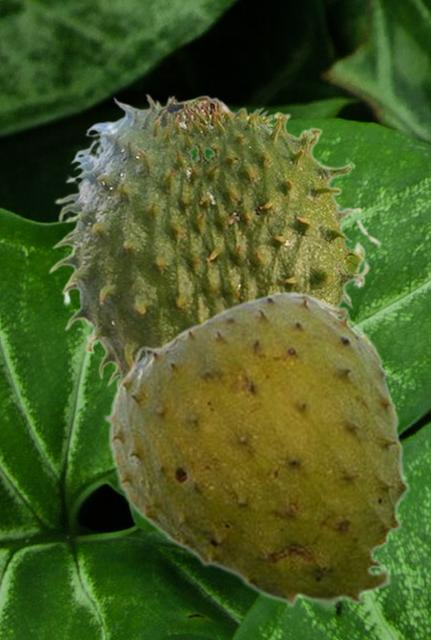guyabano: (102, 290, 410, 611), (48, 93, 382, 388)
